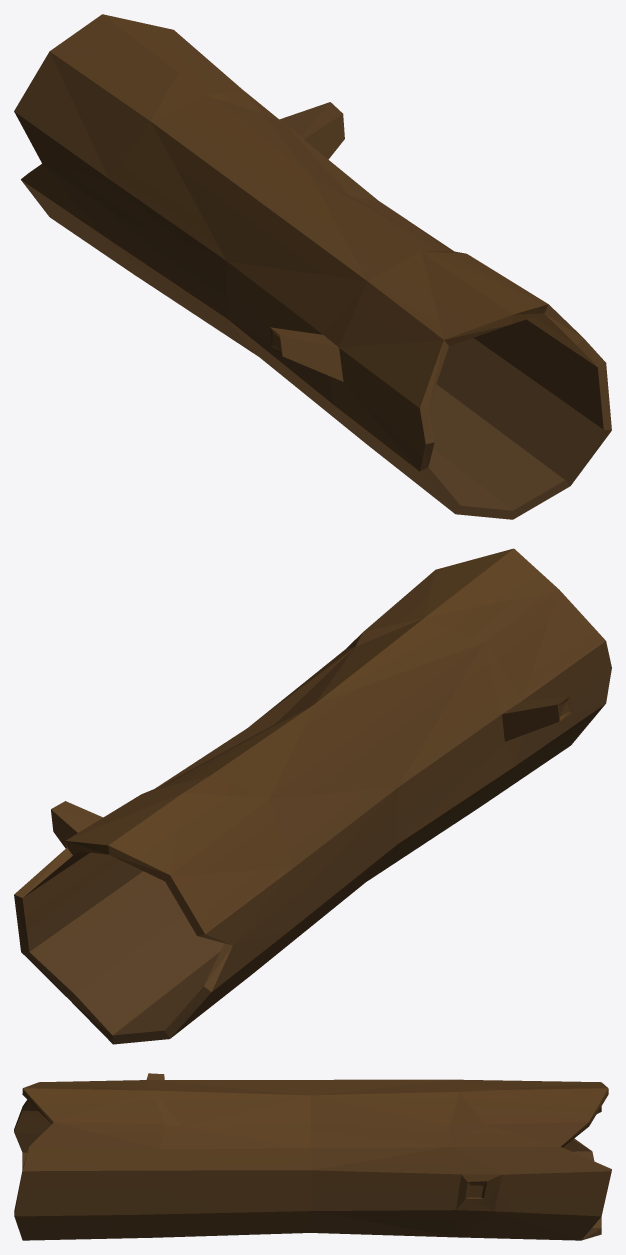
The model's file is Log_01.fbx.
3 renders of one model, top to bottom at view 1: azimuth 30°, elevation 25°; view 2: azimuth 150°, elevation 25°; view 3: azimuth 270°, elevation 25°, orthographic. The views are drawn at different scales.
Visible parts, largest first — view 1: Log_01; view 2: Log_01; view 3: Log_01.
Part boxes in pixels (<box>): Log_01: <box>14,14,611,519</box>; Log_01: <box>14,548,611,1044</box>; Log_01: <box>14,1073,611,1240</box>.
Size of the model in its own units: 0.6979 by 0.4747 by 1.76.
